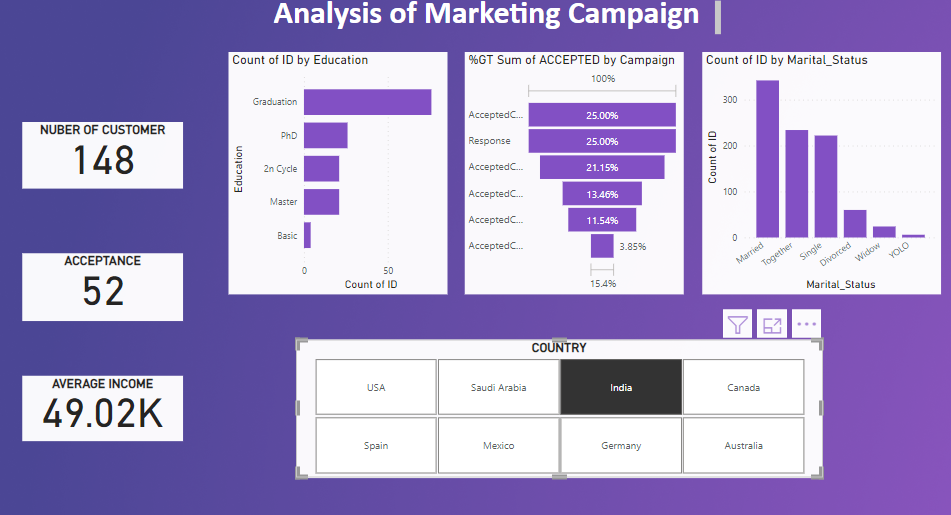

The dashboard page shown, as its layout file describes it:
{"tool":"powerbi","page":{"name":"Page 1","canvas":[1280,720],"ordinal":0},"visuals":[{"type":"textbox","box":[364.7,0,593.7,59],"z":0},{"type":"card","title":" NUBER OF CUSTOMER","fields":{"Values":["Count(marketing_data (1).ID)"]},"box":[34.3,167.1,214.3,88.6],"z":1000},{"type":"card","title":"ACCEPTANCE","fields":{"Values":["Sum(marketing_data (1).ACCEPTED)"]},"box":[34.3,341.4,214.3,90],"z":2000},{"type":"card","title":"AVERAGE INCOME","fields":{"Values":["Avg(marketing_data (1). Income )"]},"box":[34.3,504.3,214.3,87.1],"z":3000},{"type":"slicer","title":"COUNTRY","fields":{"Values":["marketing_data (1).Country"]},"box":[364.3,157.1,702.9,184.3],"z":3001},{"type":"barChart","fields":{"Category":["marketing_data (1).Education"],"Y":["Count(marketing_data (1).ID)"]},"box":[300,397.1,291.4,322.9],"z":3002},{"type":"funnel","fields":{"Category":["marketing_data (1).Campaign"],"Y":["Sum(marketing_data (1).ACCEPTED)"]},"box":[601.4,397.1,291.4,322.9],"z":3003},{"type":"columnChart","fields":{"Category":["marketing_data (1).Marital_Status"],"Y":["CountNonNull(marketing_data (1).ID)"]},"box":[944.3,397.1,318.6,322.9],"z":3004}]}

Visuals, with their boxes on the page's 1280x720 design canvas (x1, y1, x2, y2). These are canvas units, not pixel positions in the 951x515 screenshot, which may show the page scaled, cropped or inside an application window:
textbox: [x1=365, y1=0, x2=958, y2=59]
" NUBER OF CUSTOMER" card: [x1=34, y1=167, x2=249, y2=256]
"ACCEPTANCE" card: [x1=34, y1=341, x2=249, y2=431]
"AVERAGE INCOME" card: [x1=34, y1=504, x2=249, y2=591]
"COUNTRY" slicer: [x1=364, y1=157, x2=1067, y2=341]
barChart - marketing_data (1).Education x Count(marketing_data (1).ID): [x1=300, y1=397, x2=591, y2=720]
funnel - marketing_data (1).Campaign x Sum(marketing_data (1).ACCEPTED): [x1=601, y1=397, x2=893, y2=720]
columnChart - marketing_data (1).Marital_Status x CountNonNull(marketing_data (1).ID): [x1=944, y1=397, x2=1263, y2=720]
